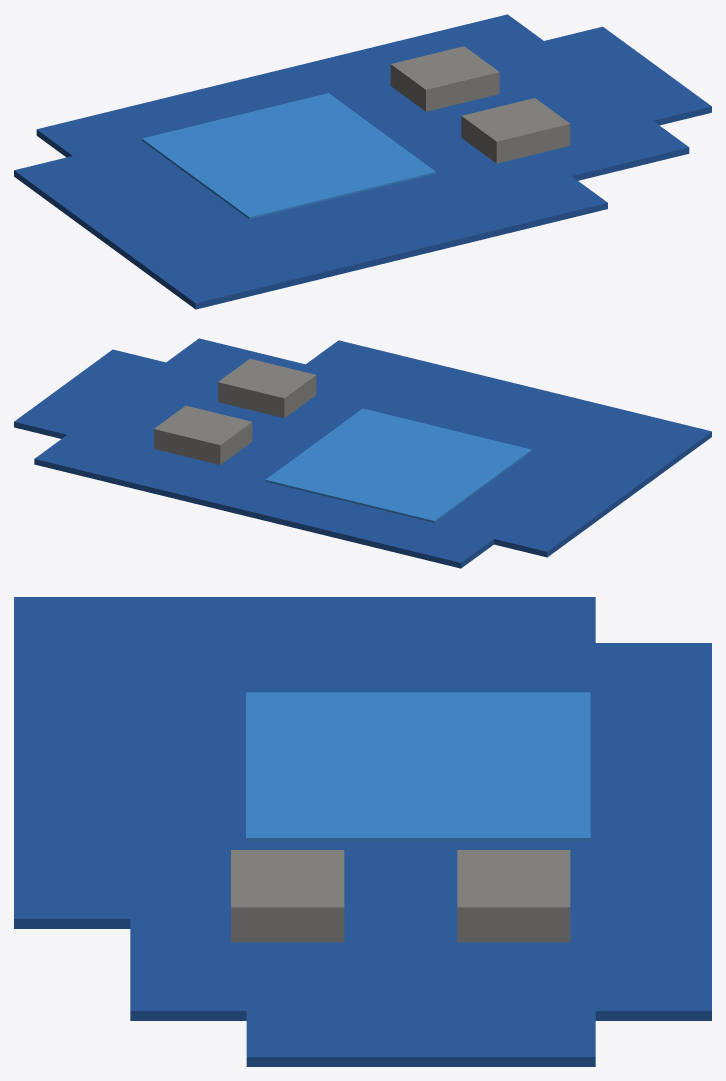
The model's file is puddle-pixor-blocky.glb.
3 renders of one model, top to bottom at view 1: azimuth 30°, elevation 25°; view 2: azimuth 150°, elevation 25°; view 3: azimuth 270°, elevation 25°, orthographic. The views are drawn at different scales.
Parts seen in each view (by area): view 1: Puddle water, Puddle shine, Puddle pebbles; view 2: Puddle water, Puddle shine, Puddle pebbles; view 3: Puddle water, Puddle shine, Puddle pebbles.
Boxes of the visible parts, bbox=[...] form: Puddle water: bbox=[14, 14, 711, 309]; Puddle shine: bbox=[141, 93, 436, 219]; Puddle pebbles: bbox=[390, 46, 570, 163]; Puddle water: bbox=[14, 338, 711, 568]; Puddle shine: bbox=[265, 408, 531, 522]; Puddle pebbles: bbox=[154, 359, 316, 464]; Puddle water: bbox=[14, 597, 711, 1066]; Puddle shine: bbox=[246, 692, 590, 841]; Puddle pebbles: bbox=[231, 850, 570, 942].
Size of the model in its own units: 1.18 by 0.0542 by 0.7591.
